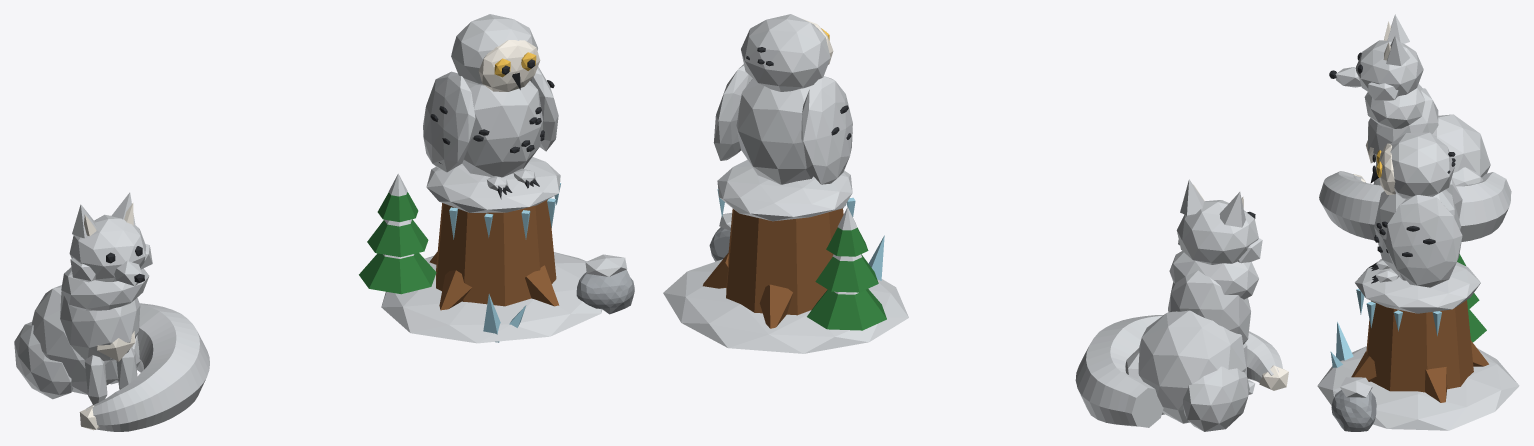
File: arctic-fox-and-snowy-owl.glb
3 renders of one model, left to right at view 1: azimuth 30°, elevation 25°; view 2: azimuth 150°, elevation 25°; view 3: azimuth 270°, elevation 25°, orthographic. The views are drawn at different scales.
Visible parts, largest first — view 1: SnowyOwl, ArcticFox, Fox_Tail, Owl_Body, Owl_Head, Fox_Head, Owl_Wing_R, Owl_Wing_L; view 2: SnowyOwl, ArcticFox, Fox_Tail, Owl_Body, Owl_Head, Fox_Head, Owl_Wing_R, Owl_Wing_L; view 3: SnowyOwl, Fox_Tail, ArcticFox, Owl_Wing_L, Owl_Head, Fox_Head, Owl_Body, Owl_Wing_R.
Boxes of the visible parts, x1=… form: SnowyOwl: x1=359, y1=157, x2=634, y2=343; ArcticFox: x1=14, y1=267, x2=149, y2=406; Fox_Tail: x1=79, y1=303, x2=209, y2=431; Owl_Body: x1=462, y1=80, x2=544, y2=199; Owl_Head: x1=451, y1=14, x2=540, y2=91; Fox_Head: x1=69, y1=192, x2=152, y2=285; Owl_Wing_R: x1=423, y1=71, x2=475, y2=172; Owl_Wing_L: x1=530, y1=66, x2=558, y2=151; SnowyOwl: x1=663, y1=160, x2=908, y2=353; ArcticFox: x1=1125, y1=251, x2=1258, y2=431; Fox_Tail: x1=1075, y1=315, x2=1288, y2=427; Owl_Body: x1=736, y1=78, x2=813, y2=184; Owl_Head: x1=741, y1=14, x2=833, y2=91; Fox_Head: x1=1176, y1=179, x2=1262, y2=264; Owl_Wing_R: x1=801, y1=76, x2=852, y2=184; Owl_Wing_L: x1=713, y1=64, x2=752, y2=160; SnowyOwl: x1=1317, y1=253, x2=1519, y2=431; Fox_Tail: x1=1319, y1=171, x2=1511, y2=241; ArcticFox: x1=1364, y1=84, x2=1490, y2=186; Owl_Wing_L: x1=1386, y1=195, x2=1462, y2=287; Owl_Head: x1=1370, y1=132, x2=1455, y2=198; Fox_Head: x1=1329, y1=14, x2=1423, y2=101; Owl_Body: x1=1369, y1=189, x2=1461, y2=283; Owl_Wing_R: x1=1446, y1=178, x2=1462, y2=218.
Bounding box in the file's own units: 6.12 × 2.93 × 2.13.
